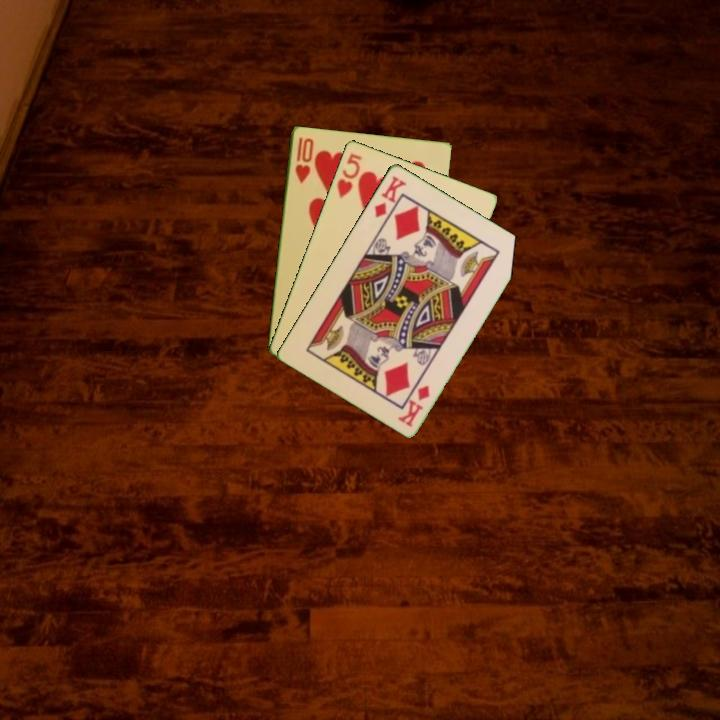10h: (291, 133, 316, 186)
5h: (333, 149, 364, 201)
Kd: (370, 172, 409, 220), (395, 381, 433, 429)
